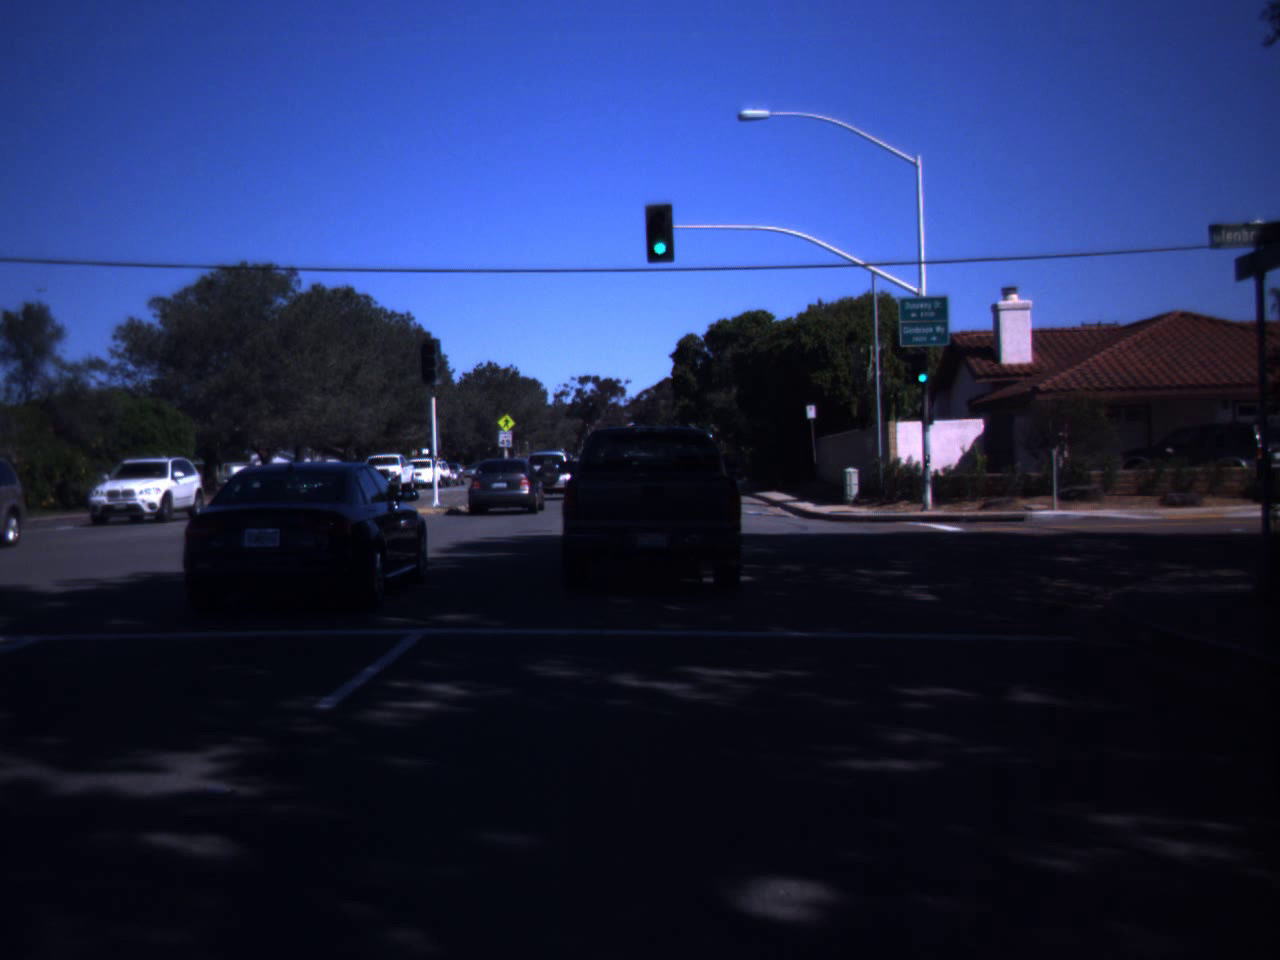go: (645, 208, 675, 258), (912, 350, 933, 385)
